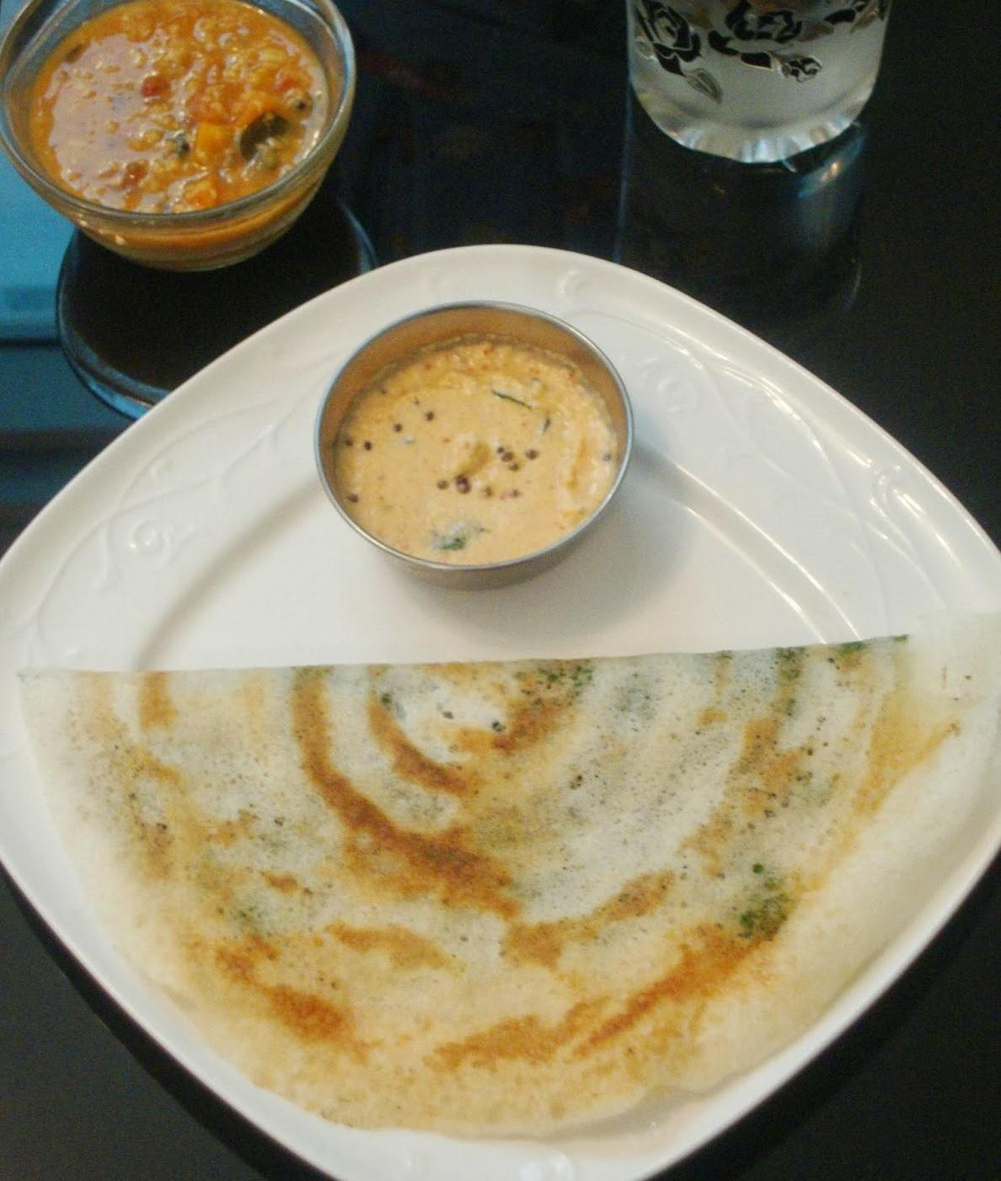CoconutChutney: (329, 341, 612, 564)
Dosa: (21, 621, 1001, 1142)
